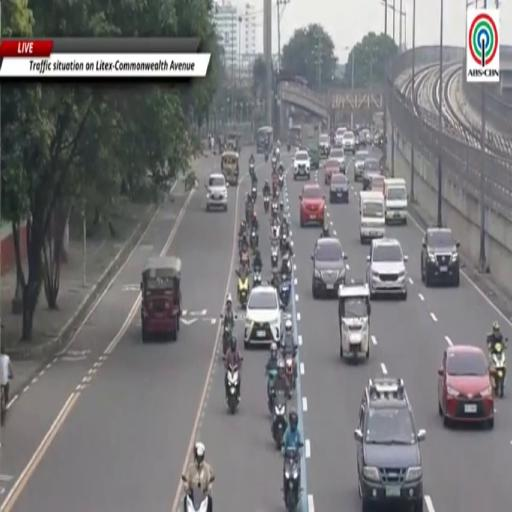bus: (256, 126, 273, 153), (289, 125, 302, 147)
car: (355, 377, 425, 511), (438, 345, 494, 428), (367, 237, 408, 299), (244, 284, 281, 348), (421, 228, 459, 286), (312, 237, 347, 298), (300, 184, 326, 227), (206, 173, 228, 211), (330, 173, 349, 203), (363, 156, 380, 189), (294, 151, 311, 180), (362, 171, 384, 192), (354, 151, 369, 181), (324, 158, 340, 185), (330, 148, 345, 173), (370, 174, 384, 194), (343, 132, 356, 153), (319, 134, 330, 157), (335, 126, 346, 147), (359, 128, 371, 146)
jeepney: (141, 256, 181, 342), (339, 281, 371, 359), (221, 151, 239, 185), (225, 133, 240, 152)
motorcycle: (283, 447, 300, 511), (272, 390, 287, 450), (490, 343, 506, 397), (225, 365, 240, 414), (185, 487, 209, 511), (236, 270, 249, 309), (267, 370, 277, 413), (285, 354, 296, 390), (279, 275, 290, 309), (223, 320, 232, 354), (0, 386, 7, 426), (271, 240, 279, 268), (282, 251, 291, 275), (252, 269, 262, 288), (271, 268, 279, 291), (240, 249, 250, 267), (281, 216, 289, 238), (239, 232, 248, 250), (246, 203, 253, 225), (251, 230, 258, 251), (280, 231, 287, 252), (272, 181, 279, 200), (271, 201, 278, 218), (251, 186, 257, 202), (264, 196, 269, 213), (249, 163, 254, 179), (279, 175, 283, 188), (272, 157, 276, 170), (264, 152, 268, 163), (276, 148, 279, 161), (287, 143, 290, 152)
truck: (303, 124, 320, 170)
